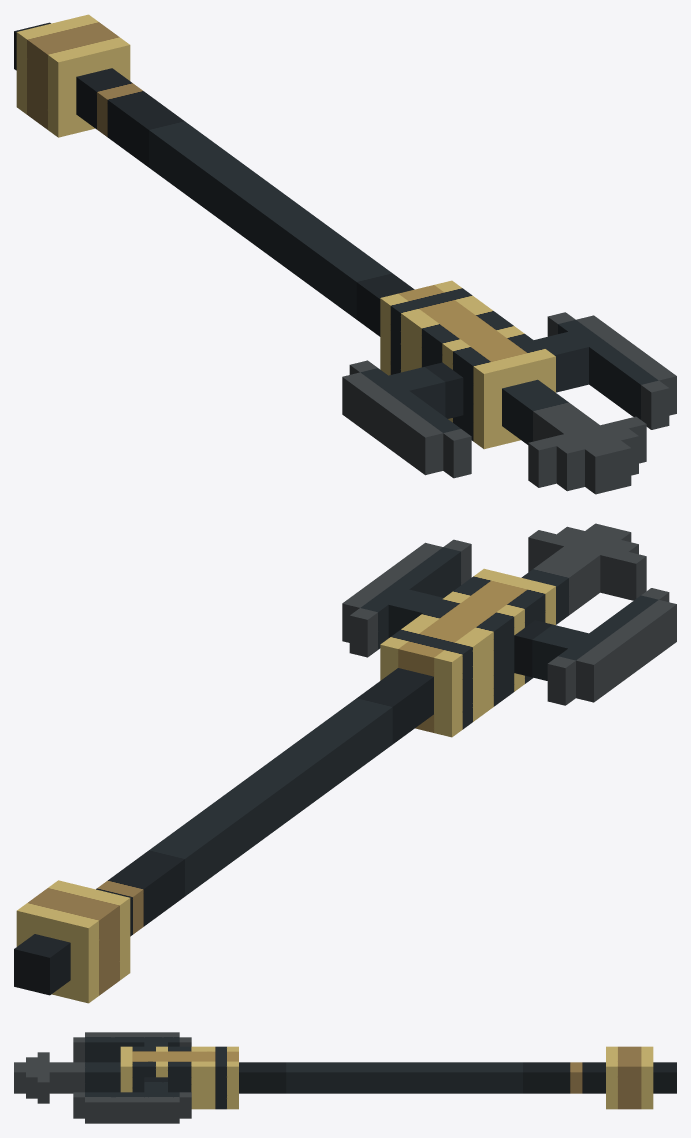
The model's file is Weapon032.fbx.
The picture shows the model from 3 angles, top to bottom: view 1: azimuth 30°, elevation 25°; view 2: azimuth 150°, elevation 25°; view 3: azimuth 270°, elevation 25°; orthographic projection. The views are drawn at different scales.
Visible parts, largest first — view 1: Weapon032; view 2: Weapon032; view 3: Weapon032.
Boxes of the visible parts, left/top/right/bottom form: Weapon032: left=14, top=14, right=676, bottom=494; Weapon032: left=14, top=523, right=676, bottom=1003; Weapon032: left=14, top=1032, right=676, bottom=1123.
Size of the model in its own units: 14 by 4 by 56.
